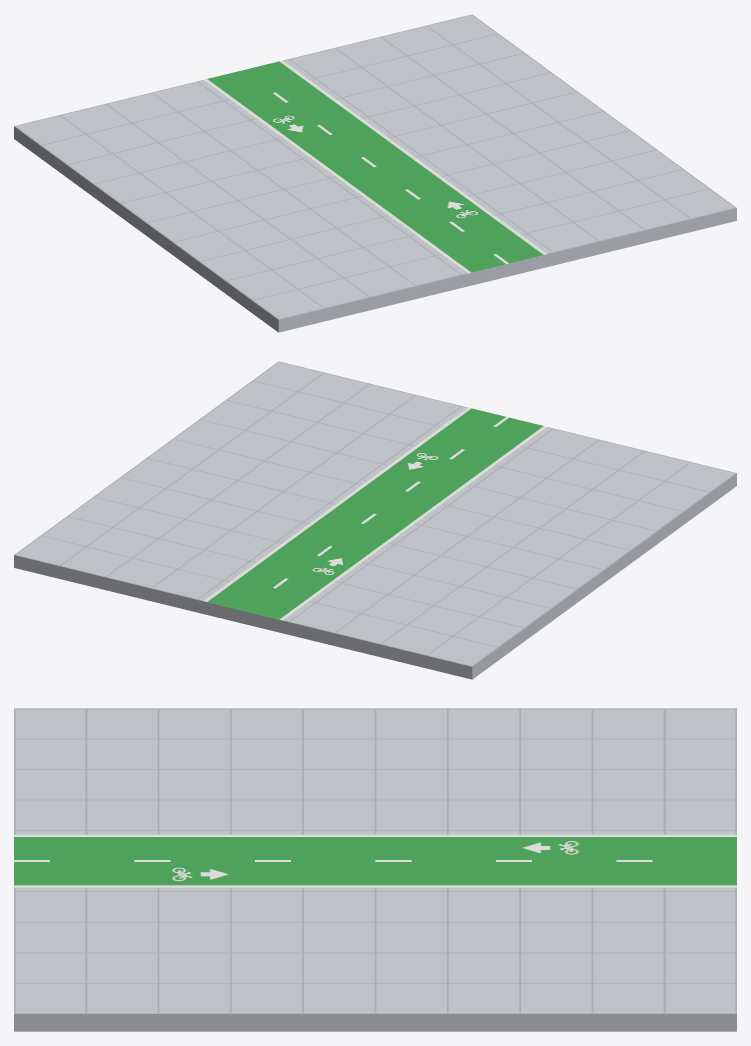
Rendered from ciclovia_reta_verde.glb.
3 renders of one model, top to bottom at view 1: azimuth 30°, elevation 25°; view 2: azimuth 150°, elevation 25°; view 3: azimuth 270°, elevation 25°, orthographic. The views are drawn at different scales.
Visible parts, largest first — view 1: ciclovia_reta_verde; view 2: ciclovia_reta_verde; view 3: ciclovia_reta_verde.
Boxes of the visible parts, x1=… form: ciclovia_reta_verde: x1=14, y1=14, x2=736, y2=332; ciclovia_reta_verde: x1=14, y1=361, x2=736, y2=679; ciclovia_reta_verde: x1=14, y1=708, x2=736, y2=1031.
Size of the model in its own units: 15 by 0.4045 by 15.
Materials: 2 (2 with a texture image).
